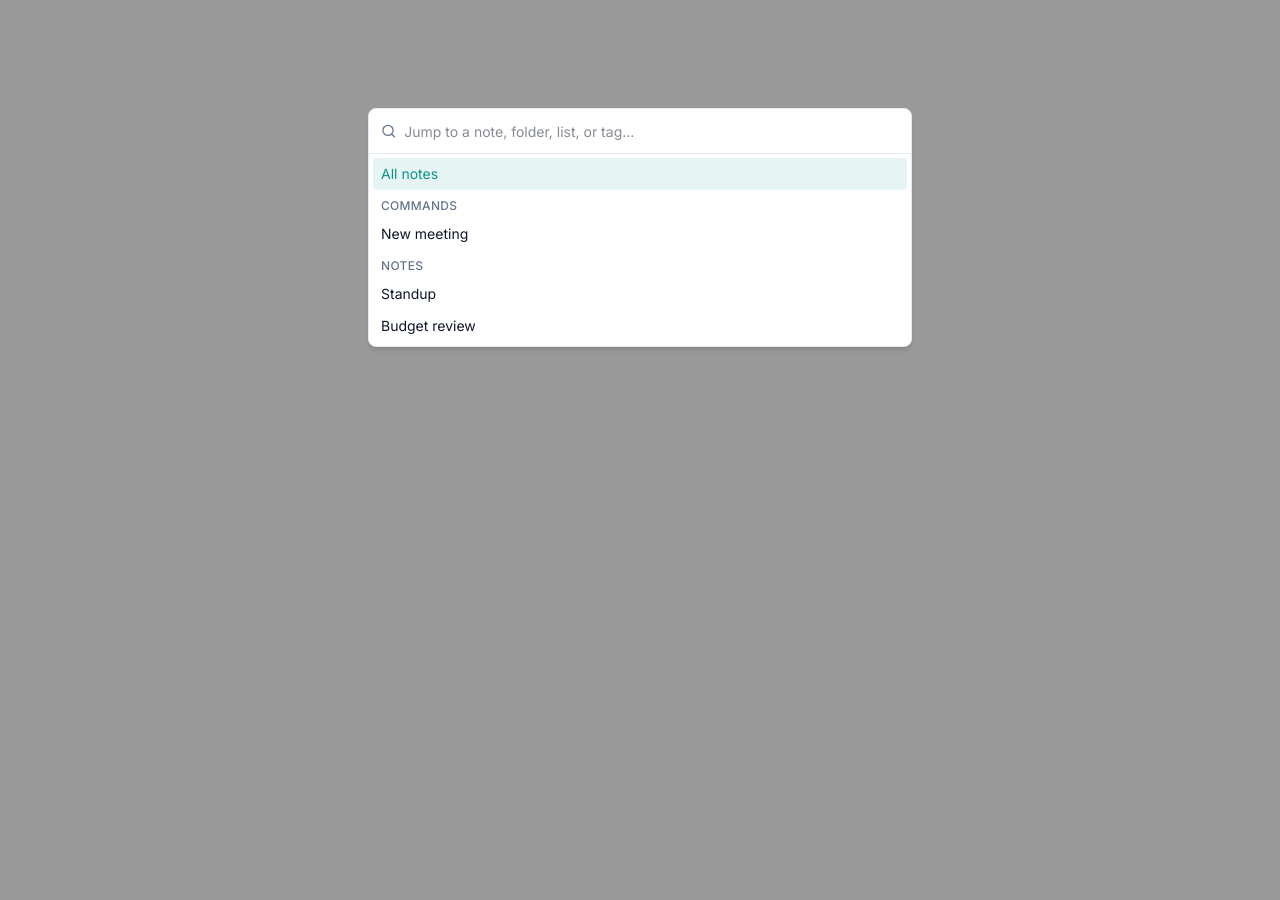
Test case: CommandPalette › action commands › hides action when query does not match its label
In the field named "Search": (652, 131) [404,109,899,153], type "budget"
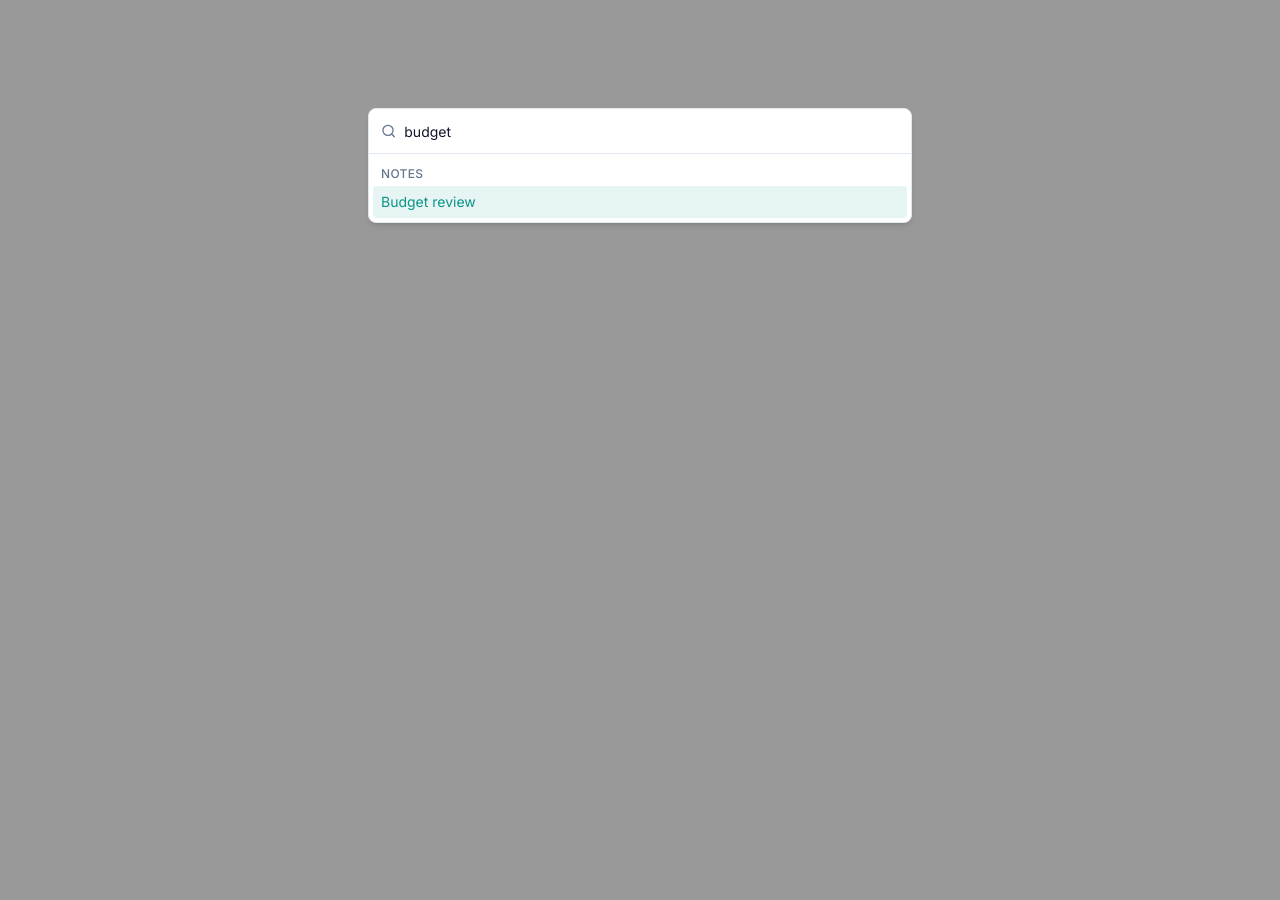
Result: the button "New meeting" is gone
